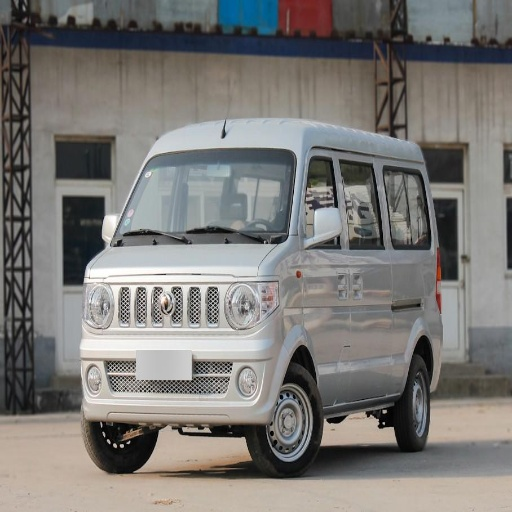front_bumper: (83, 281, 286, 419)
front_glass: (113, 149, 295, 245)
front_left_door: (299, 149, 372, 402)
trunk: (363, 262, 441, 360)
